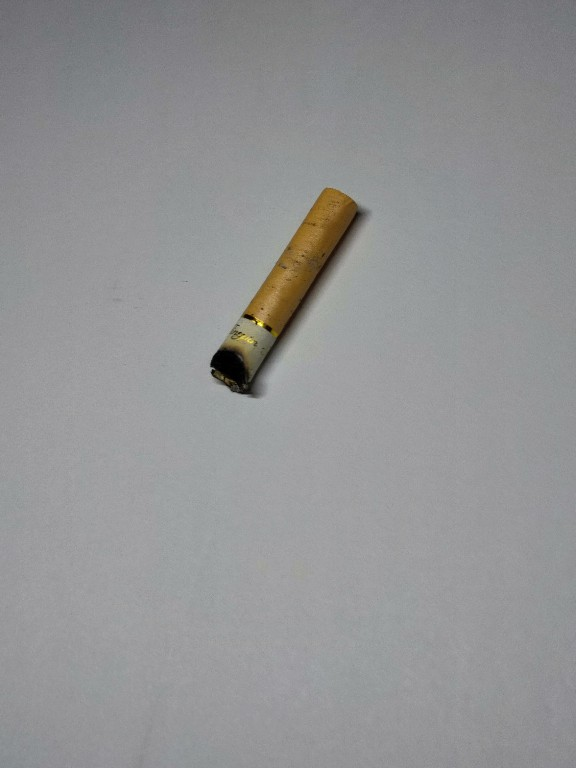cigarette: (206, 183, 363, 399)
